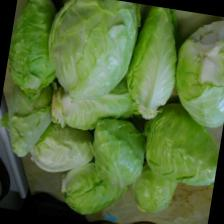cabbage: (38, 0, 142, 112), (120, 3, 186, 123), (139, 99, 224, 190), (1, 0, 68, 102), (167, 13, 224, 130), (55, 152, 134, 222), (85, 114, 150, 194), (128, 154, 182, 217)
